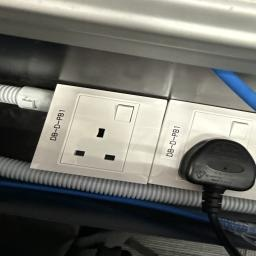outlet: (39, 82, 151, 184), (164, 92, 256, 203)
